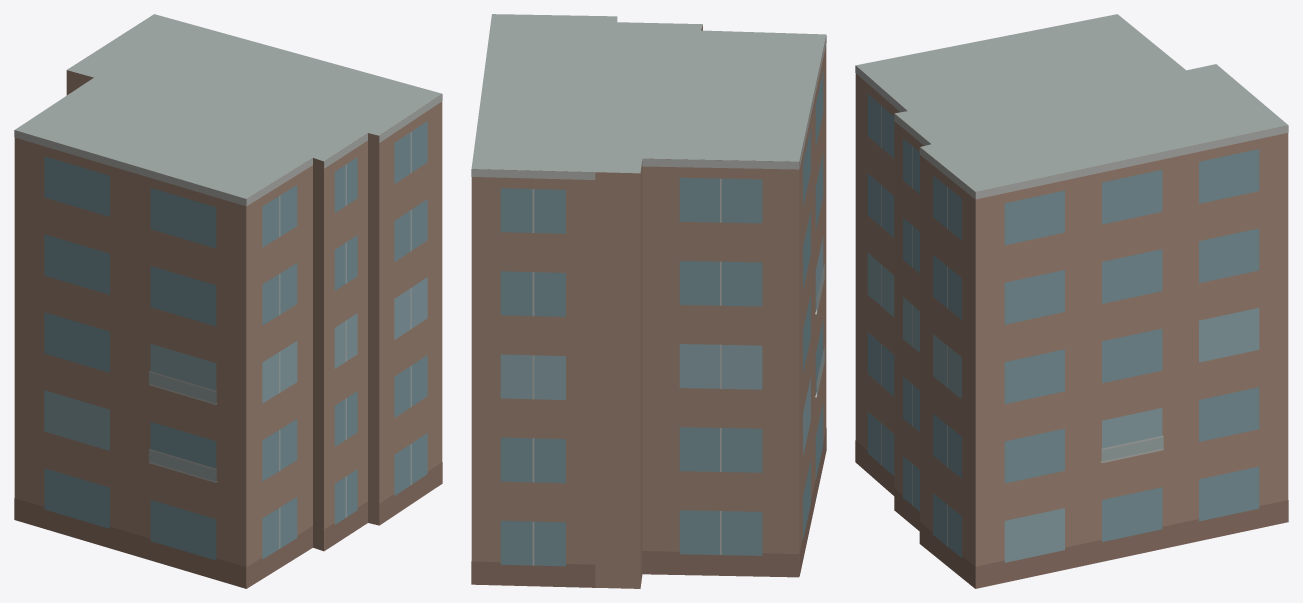
File: survey-upis-32651202.glb
3 views of the same model, side by side, from view 1: azimuth 30°, elevation 25°; view 2: azimuth 150°, elevation 25°; view 3: azimuth 270°, elevation 25° (orthographic). The views are drawn at different scales.
Parts seen in each view (by area): view 1: survey-upis-32651202.tmp; view 2: survey-upis-32651202.tmp; view 3: survey-upis-32651202.tmp.
Part boxes in pixels (box(x1,y1,x2,y2)): survey-upis-32651202.tmp: box(14, 14, 442, 588); survey-upis-32651202.tmp: box(471, 14, 826, 588); survey-upis-32651202.tmp: box(855, 14, 1288, 588).
Size of the model in its own units: 12.31 by 12.8 by 12.66.
